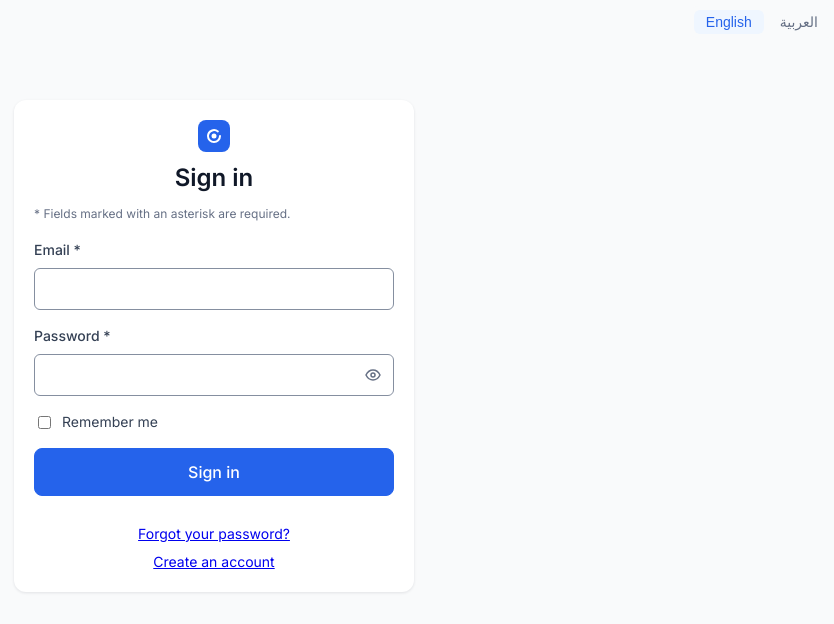
it: SignInPage › validates on blur then live thereafter, and never shows an untouched field error (AC1, G2)
Type "a" into the password field labelled "Password *" at (202, 375), box [47,355,357,395]
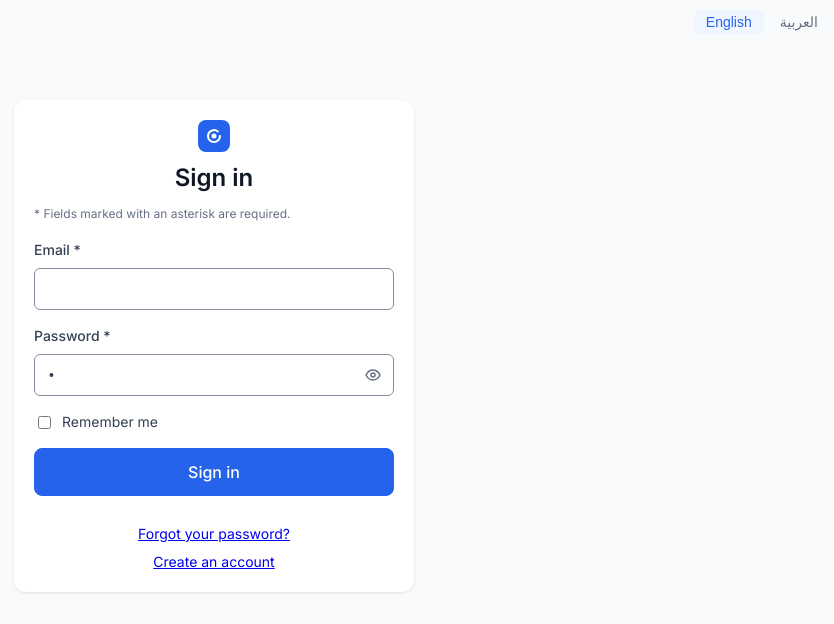
Expected: the text "Enter your email address" is not shown
Leave the field labelled "Email *", box [47,269,381,309]
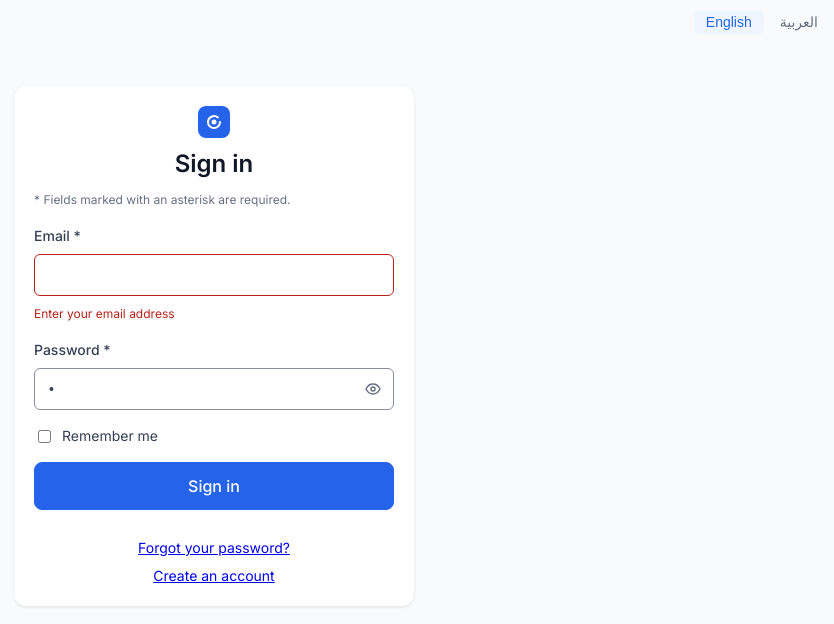
Expected: the text "Enter your email address" is shown, [34,306,174,321]
Type "not-an-email" into the field labelled "Email *" at (214, 275), box [47,255,381,295]
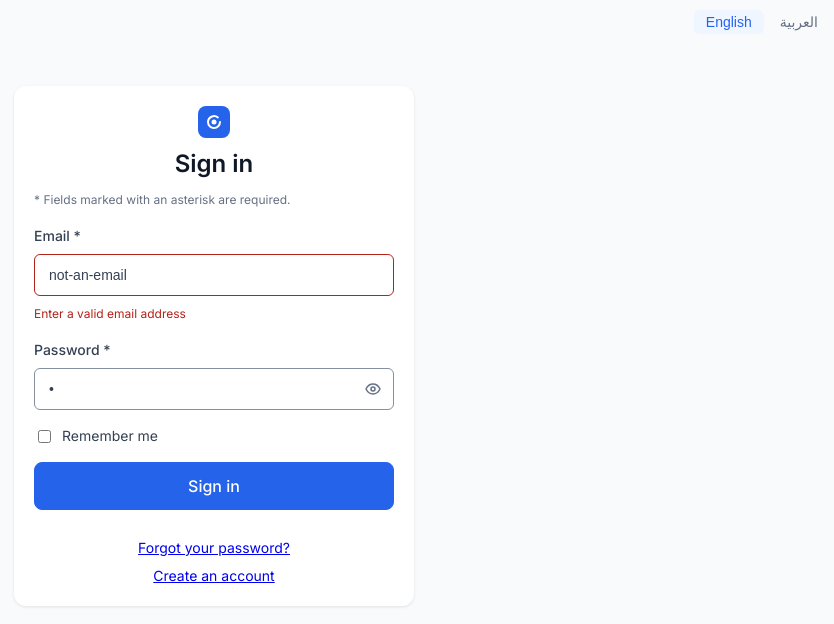
Expected: the text "Enter a valid email address" is shown, [34,306,186,321]
Replace the text in the field labelled "Email *" with "a@b.com" at (214, 275), box [47,255,381,295]
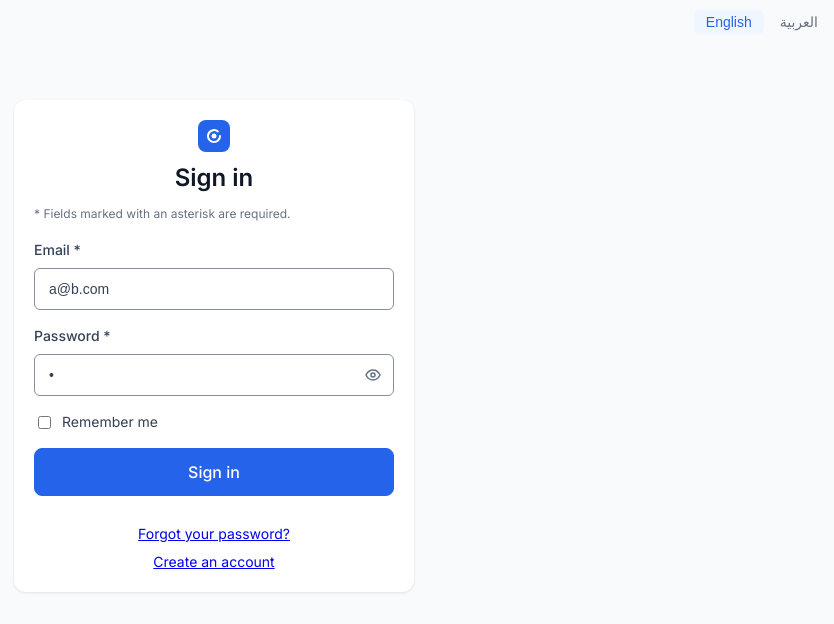
Expected: the text "Enter a valid email address" is gone
